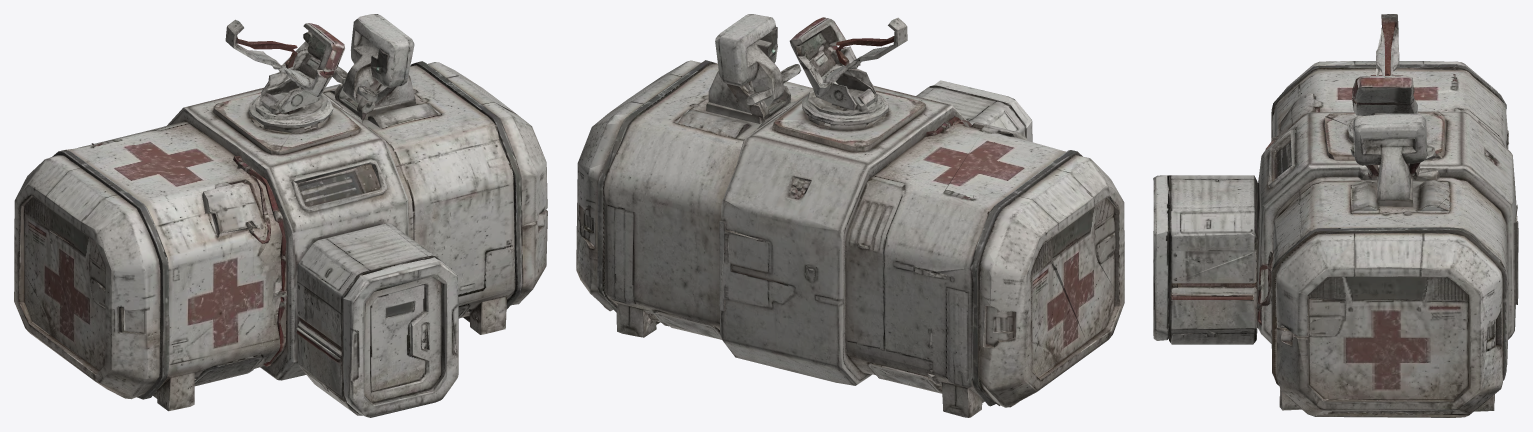
Rendered from struct.medical.glb.
3 renders of one model, left to right at view 1: azimuth 30°, elevation 25°; view 2: azimuth 150°, elevation 25°; view 3: azimuth 270°, elevation 25°, orthographic. The views are drawn at different scales.
Parts seen in each view (by area): view 1: body; view 2: body; view 3: body.
Boxes of the visible parts, box(x1,y1,x2,y2) form: body: box(14, 14, 547, 417); body: box(576, 14, 1124, 417); body: box(1153, 14, 1518, 417).
Size of the model in its own units: 1.75 by 1.2 by 1.33.
Materials: 1 (1 with a texture image).
